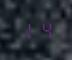four: (36, 19, 52, 39)
one: (19, 20, 35, 40)
